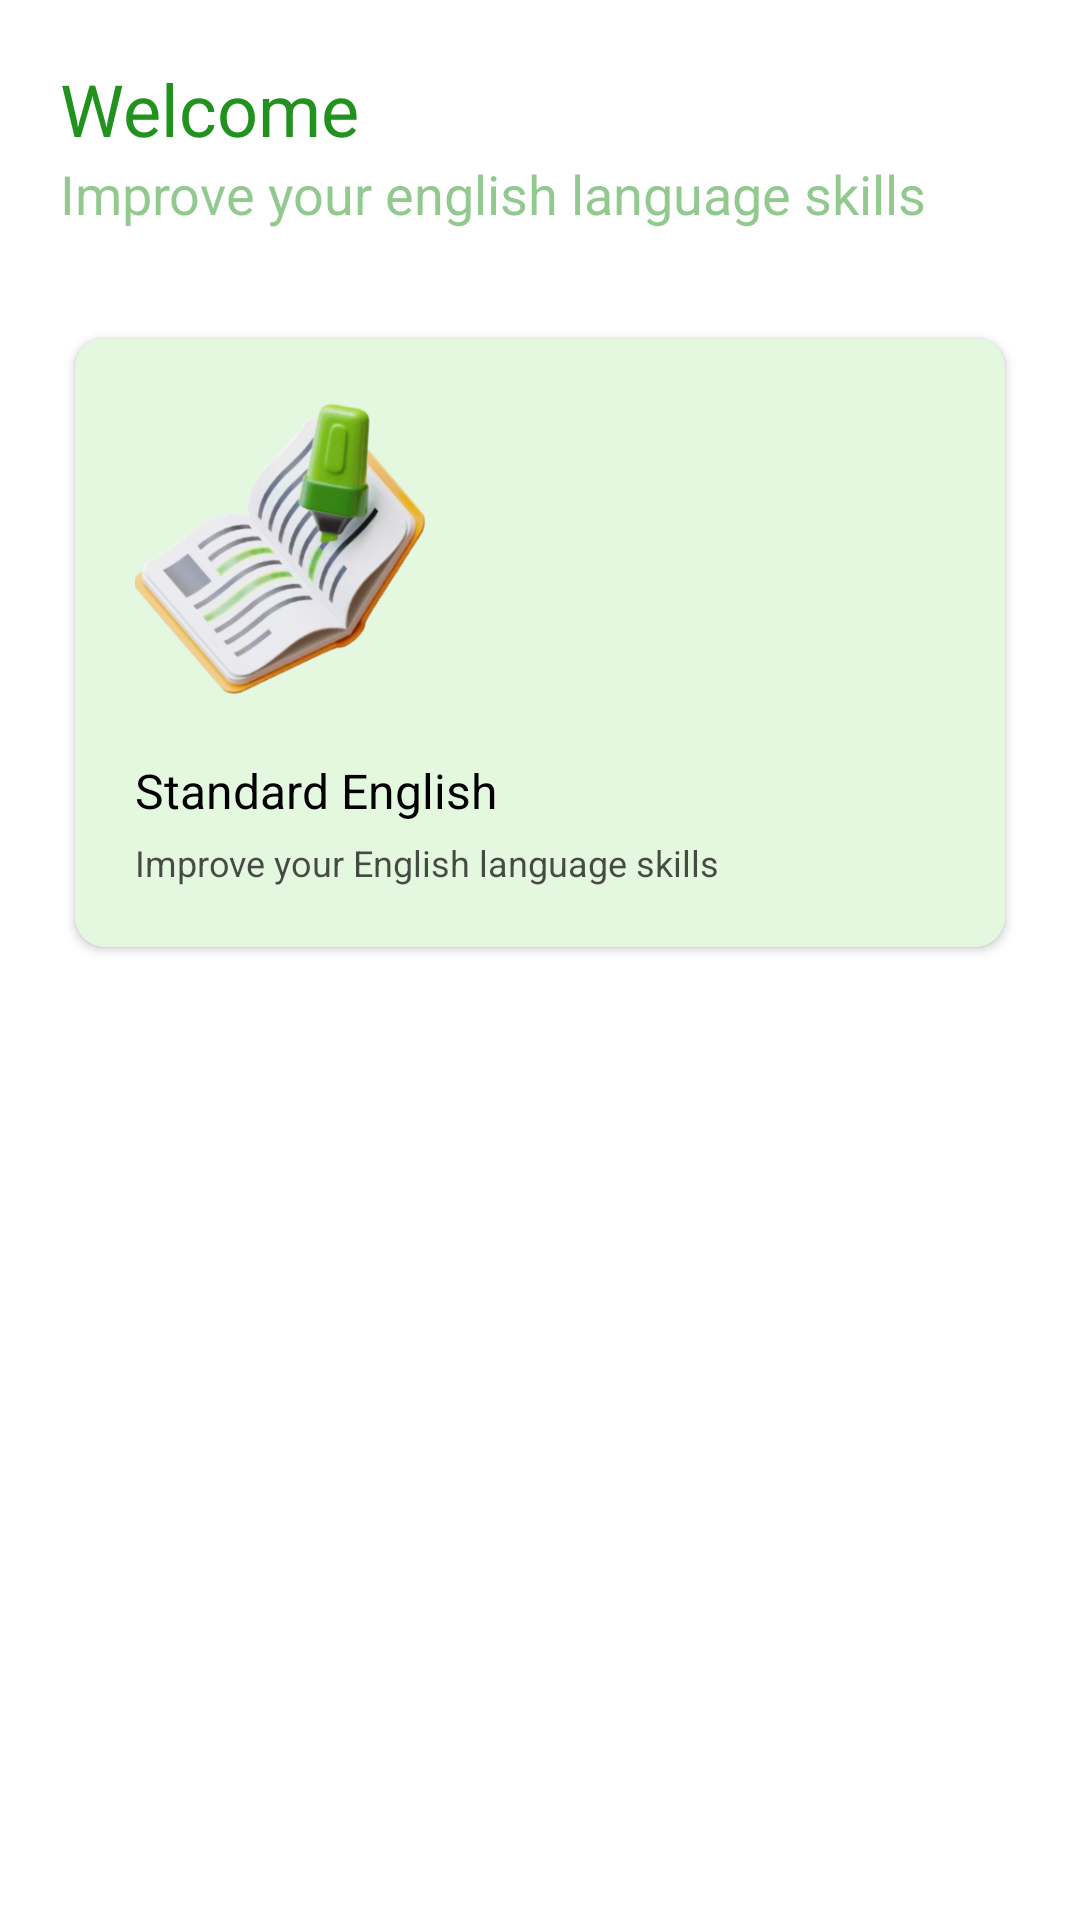

Named icons in this screenshot (1080x1920) and their bounding boxes, (x1, y1, x2, y2):
open book: (135, 404, 425, 694)
